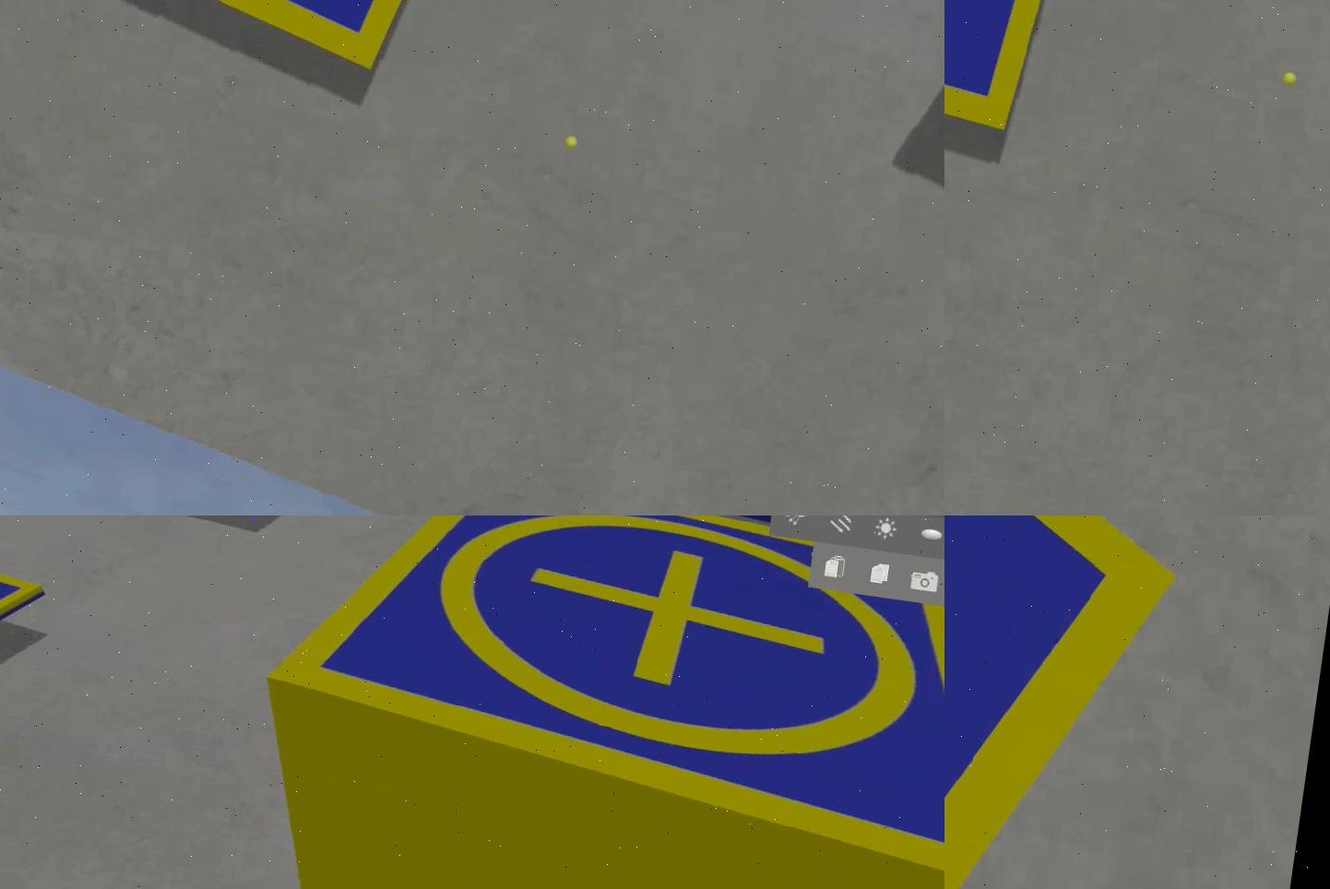small_base: (249, 516, 944, 889), (944, 516, 1238, 889), (0, 535, 48, 742)
